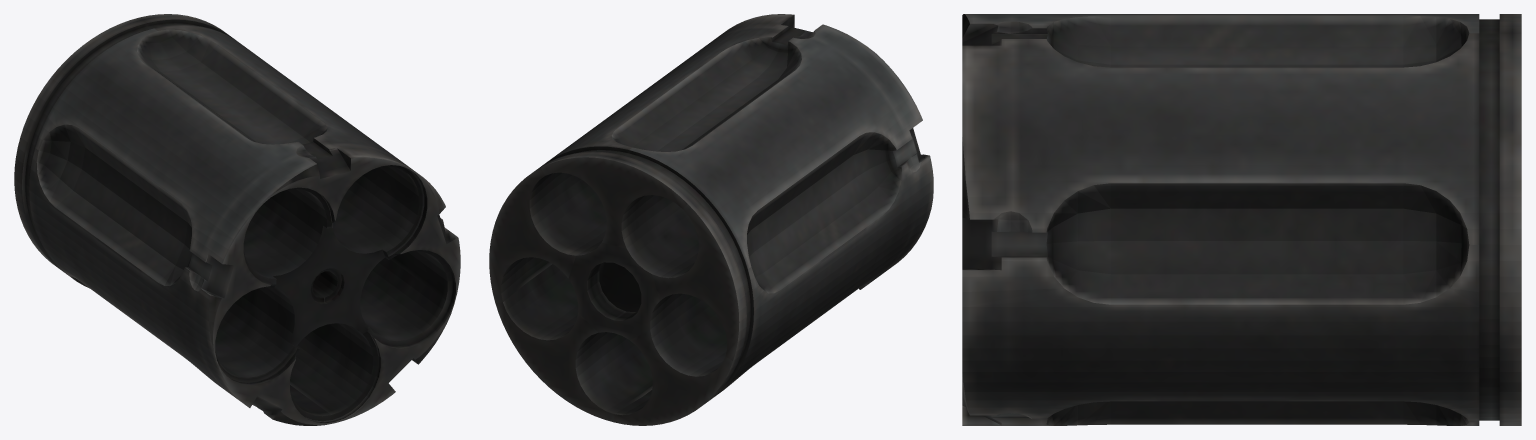
3 renders of one model, left to right at view 1: azimuth 30°, elevation 25°; view 2: azimuth 150°, elevation 25°; view 3: azimuth 270°, elevation 25°, orthographic. The views are drawn at different scales.
Visible parts, largest first — view 1: TW_60dc519adf4c47305f6d410d_PZ_Import; view 2: TW_60dc519adf4c47305f6d410d_PZ_Import; view 3: TW_60dc519adf4c47305f6d410d_PZ_Import.
Boxes of the visible parts, left/top/right/bottom form: TW_60dc519adf4c47305f6d410d_PZ_Import: left=14, top=14, right=460, bottom=425; TW_60dc519adf4c47305f6d410d_PZ_Import: left=489, top=14, right=933, bottom=425; TW_60dc519adf4c47305f6d410d_PZ_Import: left=962, top=14, right=1521, bottom=425.
Bounding box in the file's own units: 0.035 × 0.0475 × 0.035.
Materials: 1 (1 with a texture image).
